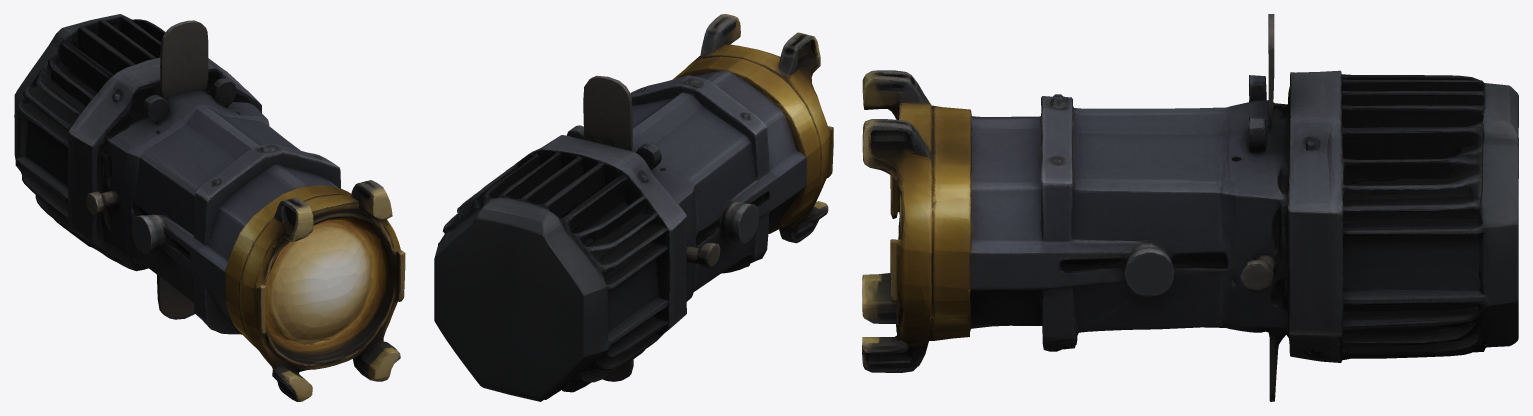
The model's file is stage-lamp-body.glb.
3 renders of one model, left to right at view 1: azimuth 30°, elevation 25°; view 2: azimuth 150°, elevation 25°; view 3: azimuth 270°, elevation 25°, orthographic. The views are drawn at different scales.
Parts seen in each view (by area): view 1: geometry_0; view 2: geometry_0; view 3: geometry_0.
Part boxes in pixels (<box>): geometry_0: <box>14,14,405,401</box>; geometry_0: <box>434,14,833,401</box>; geometry_0: <box>862,14,1518,401</box>.
Bounding box in the file's own units: 0.445 × 0.637 × 0.9999.
Materials: 1 (1 with a texture image).
